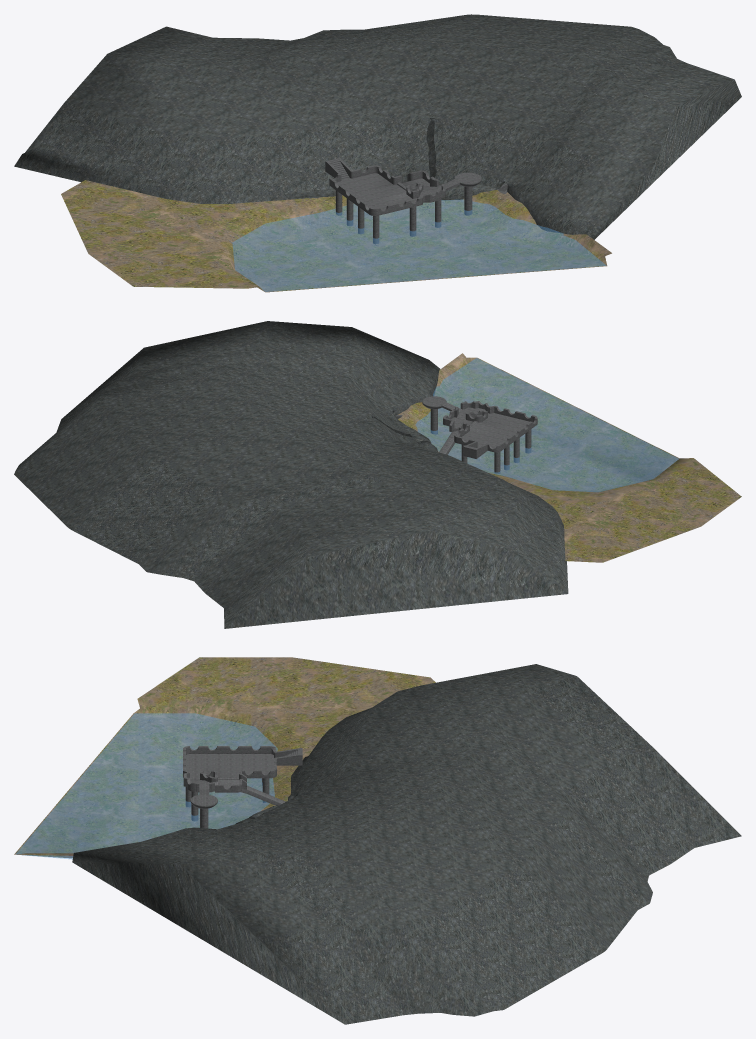
File: MainLevel.fbx
3 views of the same model, one above another, from view 1: azimuth 30°, elevation 25°; view 2: azimuth 150°, elevation 25°; view 3: azimuth 270°, elevation 25° (orthographic). The views are drawn at different scales.
Visible parts, largest first — view 1: MoutainView (right), Plane.009, Plane.010, Room01_Ground, Room01_Wall, Cube.002; view 2: MoutainView (right), Plane.009, Plane.010, Room01_Ground, Room01_Wall; view 3: MoutainView (right), Plane.009, Plane.010, Room01_Ground, Room01_Wall.
Part boxes in pixels (x1,y1,x2,y2): MoutainView (right): (14,14,741,239); Plane.009: (61,180,611,292); Plane.010: (232,199,605,291); Room01_Ground: (335,172,481,244); Room01_Wall: (325,158,445,215); Cube.002: (402,180,506,200); MoutainView (right): (14,321,568,628); Plane.009: (398,353,741,562); Plane.010: (416,358,678,491); Room01_Ground: (422,396,531,473); Room01_Wall: (443,401,537,458); MoutainView (right): (72,664,741,1024); Plane.009: (14,657,435,858); Plane.010: (16,713,277,859); Room01_Ground: (185,754,285,828); Room01_Wall: (183,746,302,792).
Bounding box in the file's own units: 23562 × 2994 × 21393.
Materials: 7 (5 with a texture image).
